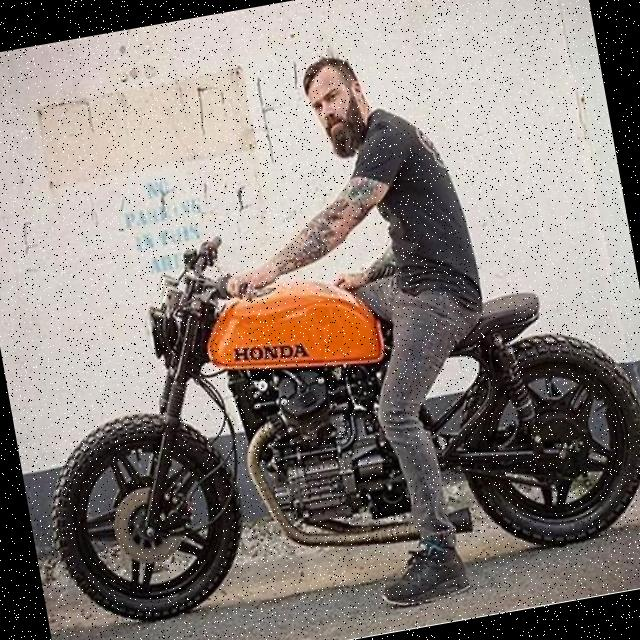No helmet: (288, 53, 397, 175)
